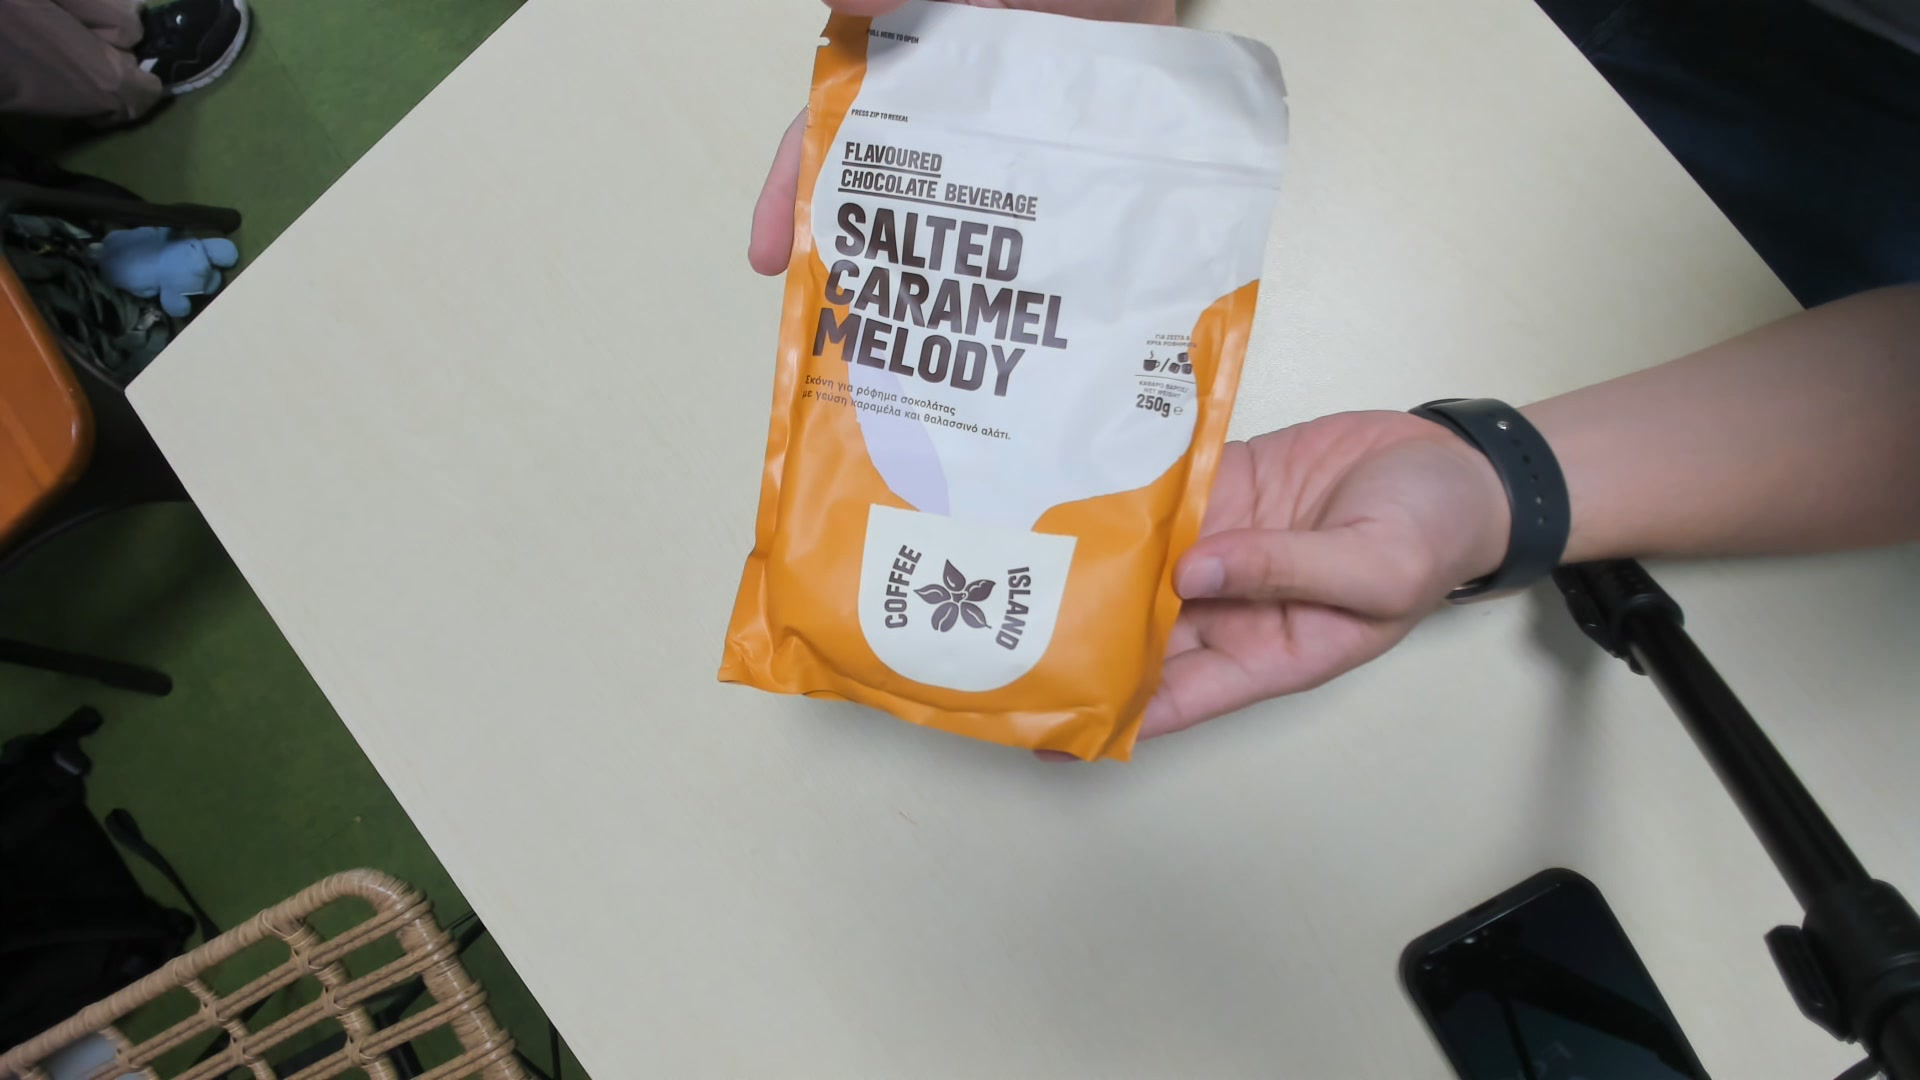Coffee_200-299g_NonHalal_NonHealthy: (742, 5, 1278, 775)
